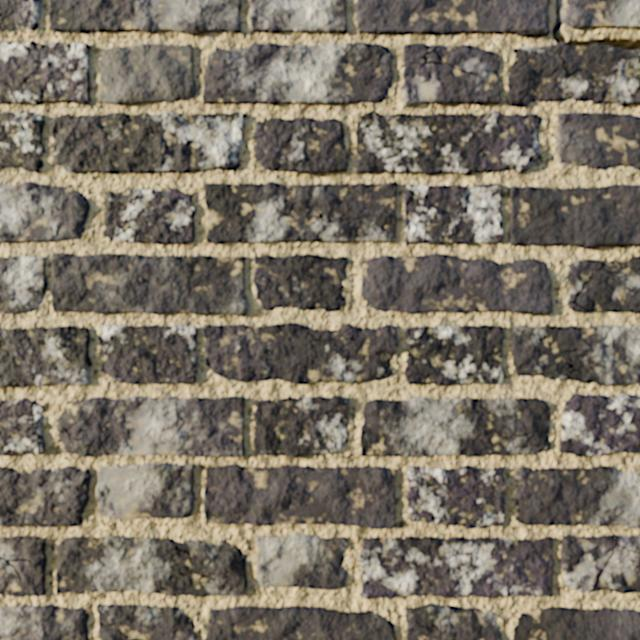brick: (204, 465, 394, 528), (51, 254, 247, 315), (359, 537, 552, 598), (203, 323, 398, 383), (205, 182, 396, 243), (356, 111, 540, 174), (203, 43, 391, 104), (56, 536, 246, 596), (51, 112, 240, 172), (362, 254, 551, 314), (57, 397, 244, 456), (360, 398, 549, 456), (507, 43, 639, 106), (509, 185, 639, 248), (511, 325, 639, 384), (515, 466, 639, 526), (357, 0, 548, 36), (49, 0, 240, 33), (205, 606, 394, 639), (403, 43, 499, 105), (407, 466, 504, 527), (404, 325, 502, 385), (404, 184, 503, 243), (99, 44, 195, 104), (254, 396, 348, 457), (98, 325, 196, 383), (0, 41, 89, 103), (96, 463, 193, 519), (0, 326, 90, 386), (253, 254, 347, 311), (0, 182, 88, 242), (0, 467, 89, 526), (254, 118, 346, 173), (257, 534, 348, 589), (104, 189, 195, 243), (560, 394, 639, 456), (557, 113, 639, 169), (561, 536, 639, 593), (514, 607, 639, 639), (567, 257, 639, 312), (97, 604, 194, 639), (405, 604, 500, 639), (250, 0, 346, 32), (0, 605, 87, 639), (0, 536, 45, 596), (0, 257, 46, 313), (0, 112, 43, 171), (0, 398, 44, 455), (563, 0, 639, 29), (0, 0, 41, 31), (58, 433, 105, 456), (618, 535, 639, 551), (235, 113, 242, 125)
crack: (551, 0, 639, 51), (570, 262, 631, 312), (592, 535, 639, 588), (26, 326, 76, 371), (59, 411, 109, 455), (417, 44, 480, 76), (0, 556, 32, 589), (340, 41, 385, 56), (407, 623, 439, 631), (200, 113, 217, 128), (231, 112, 242, 131), (98, 620, 125, 626), (387, 65, 392, 79), (308, 254, 321, 258), (362, 562, 368, 566), (221, 0, 225, 6)
